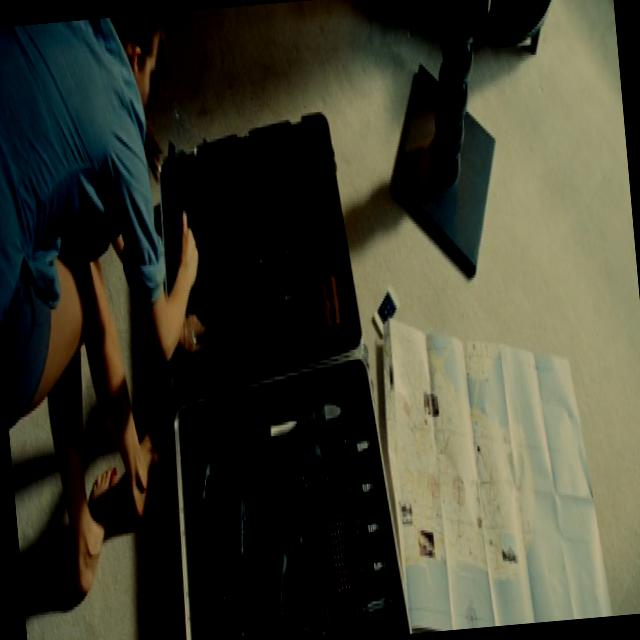handgun: (218, 455, 290, 588), (176, 395, 247, 512), (252, 512, 322, 626)
